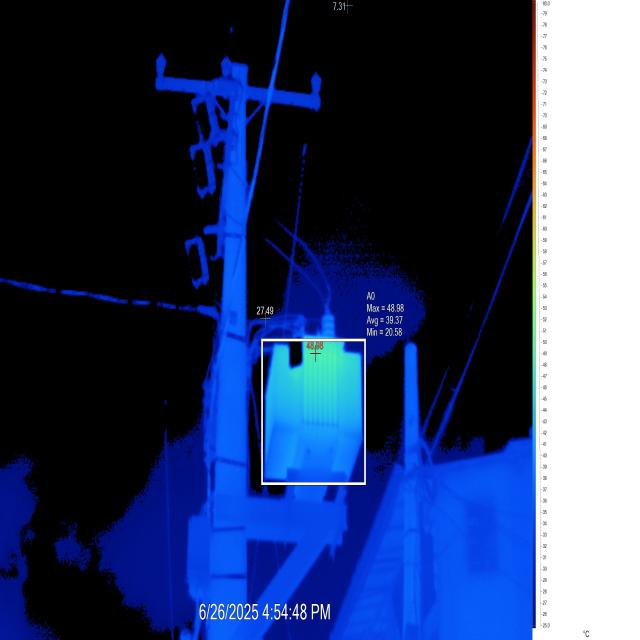Transformer: (3, 0, 528, 640)
